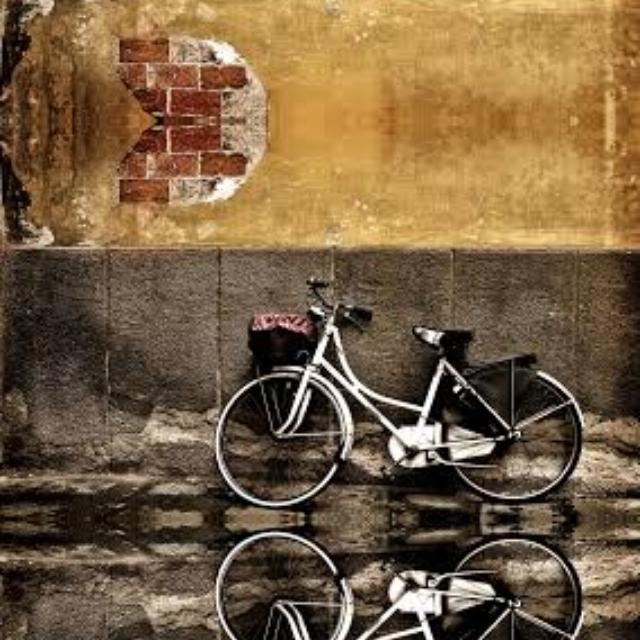obstacle: (204, 265, 612, 519), (204, 519, 611, 640)
